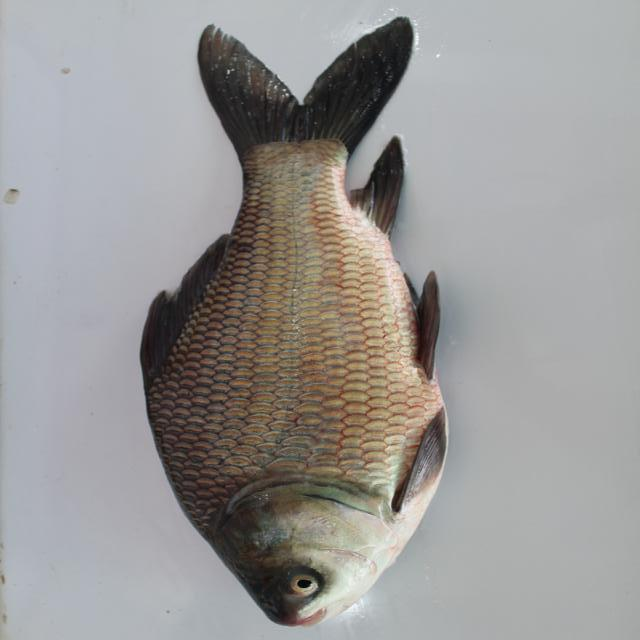Catla: (139, 20, 454, 625)
